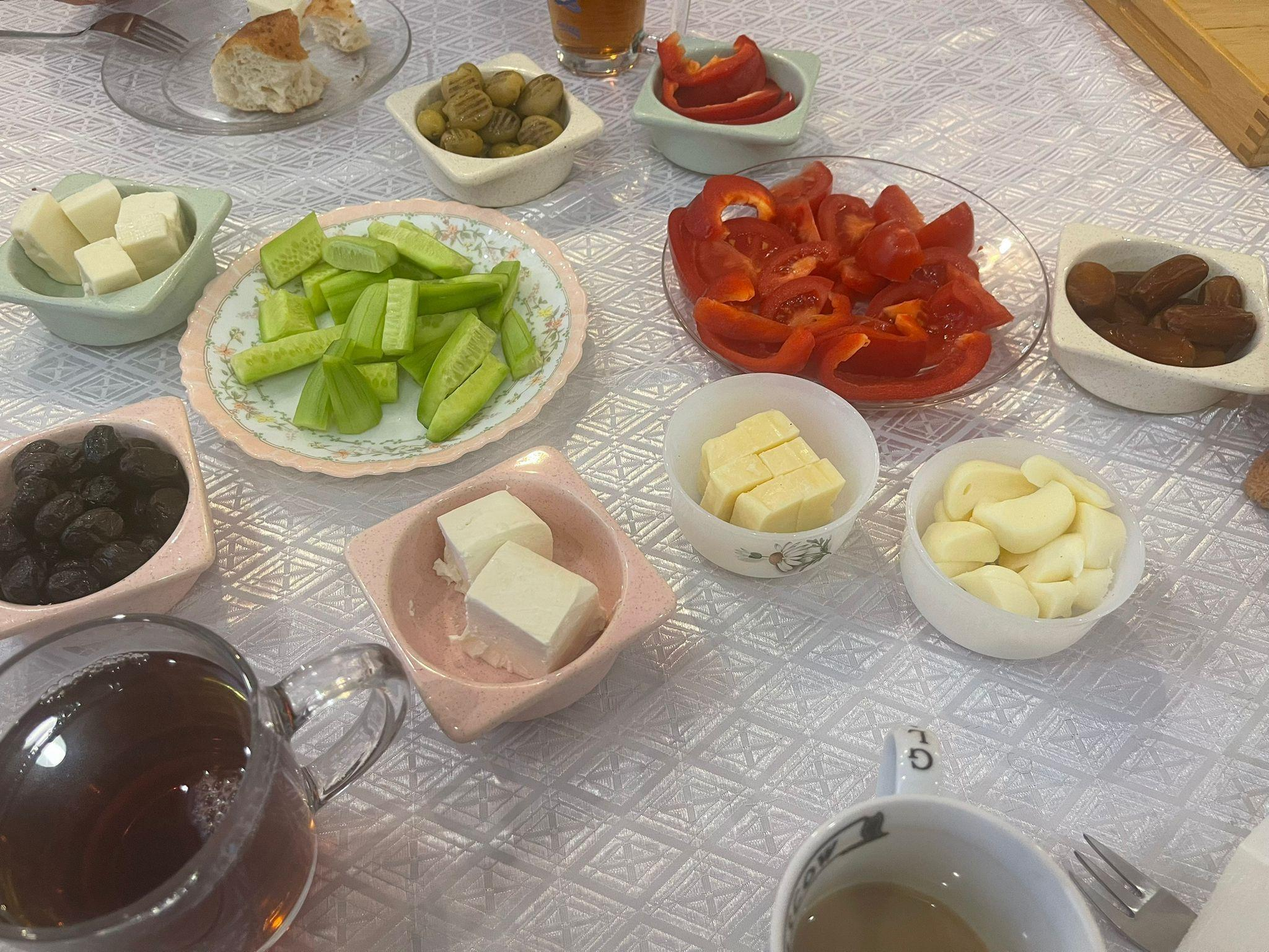bell pepper: (814, 326, 992, 400), (696, 273, 819, 378), (814, 314, 935, 371), (651, 76, 795, 119), (659, 34, 769, 89), (690, 175, 778, 232), (664, 201, 711, 292)
cucumber: (418, 316, 501, 444), (300, 337, 381, 435), (370, 217, 471, 275), (259, 206, 328, 287), (232, 327, 347, 371), (408, 273, 509, 311), (322, 230, 399, 278), (255, 284, 322, 337), (343, 284, 387, 359), (385, 276, 413, 350), (507, 309, 535, 380), (361, 363, 405, 396)
garlic: (972, 483, 1073, 548), (941, 462, 1031, 516), (950, 569, 1044, 619), (1018, 532, 1089, 586), (920, 518, 999, 564), (1070, 505, 1119, 571)
tomato: (753, 240, 831, 292), (909, 199, 982, 253), (761, 280, 836, 326), (818, 194, 876, 253), (865, 223, 924, 281), (772, 161, 840, 210), (895, 245, 981, 283), (722, 214, 793, 258), (875, 178, 927, 238), (821, 192, 872, 253), (778, 194, 815, 247)
